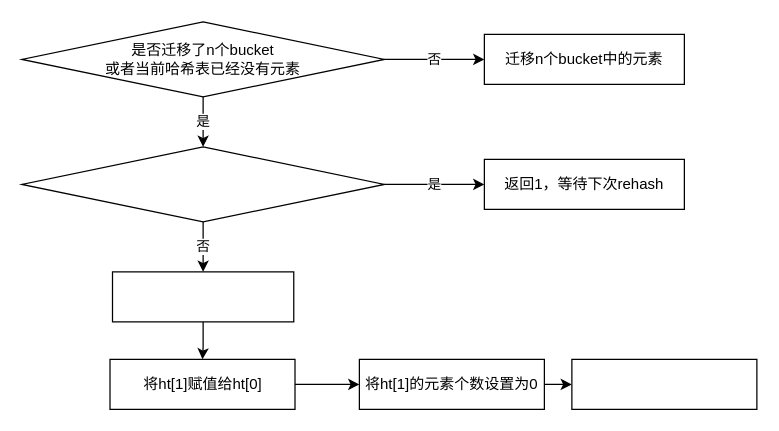
Image size: 779x431. Some labels were removed from this diagram. Here are the shapes that lost their labels. From the top down, the box of each, then its label:
(21, 146, 384, 222): 当前哈希表是否还有元素
(111, 271, 294, 322): 释放ht[0]空间
(571, 358, 757, 409): 将rehashidx设置为-1，标识rehash结束，返回0
